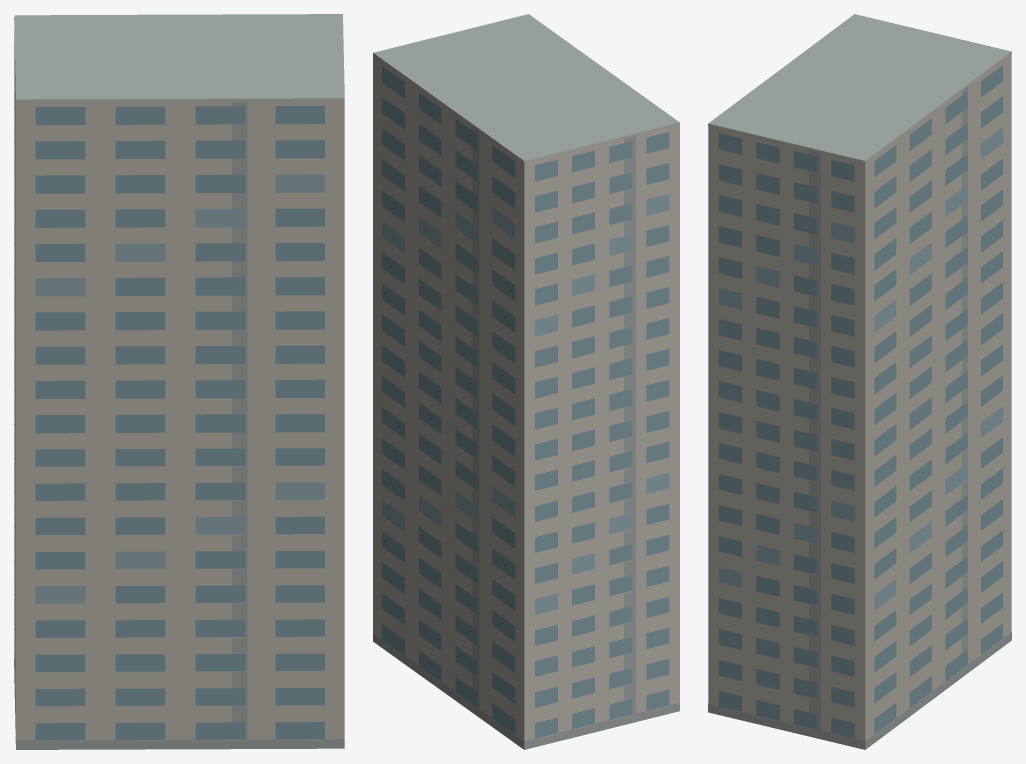
Rendered from residential-af4656a2-aeca-4e26-bcff-35f0bb9974c0.glb.
The picture shows the model from 3 angles, left to right: view 1: azimuth 30°, elevation 25°; view 2: azimuth 150°, elevation 25°; view 3: azimuth 270°, elevation 25°; orthographic projection. The views are drawn at different scales.
Parts seen in each view (by area): view 1: residential-af4656a2-aeca-4e26-bcff-35f0bb9974c0.tmp; view 2: residential-af4656a2-aeca-4e26-bcff-35f0bb9974c0.tmp; view 3: residential-af4656a2-aeca-4e26-bcff-35f0bb9974c0.tmp.
Part boxes in pixels (box(x1,y1,x2,y2)): residential-af4656a2-aeca-4e26-bcff-35f0bb9974c0.tmp: box(14, 14, 344, 749); residential-af4656a2-aeca-4e26-bcff-35f0bb9974c0.tmp: box(373, 14, 679, 749); residential-af4656a2-aeca-4e26-bcff-35f0bb9974c0.tmp: box(708, 14, 1011, 749).
Size of the model in its own units: 30 by 56 by 26.18.
